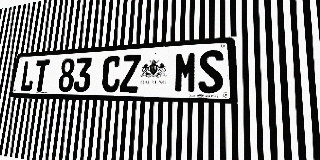3: (73, 57, 92, 92)
8: (57, 58, 76, 92)
C: (101, 55, 122, 93)
L: (19, 60, 36, 92)
M: (174, 51, 198, 93)
S: (198, 49, 223, 94)
T: (32, 60, 50, 92)
Z: (120, 54, 141, 93)
